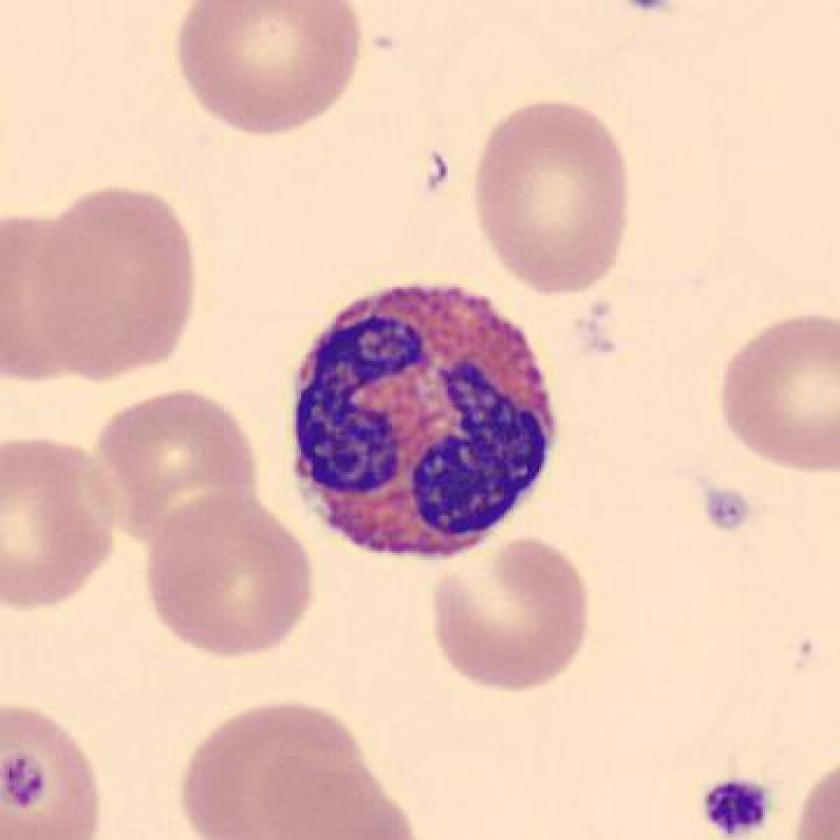eosinophil: (281, 270, 566, 571)
